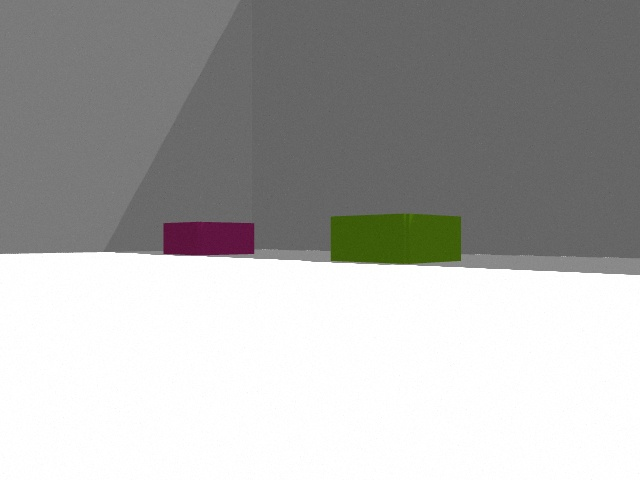green_drop_zone: (331, 214, 461, 264)
red_drop_zone: (163, 222, 254, 255)
